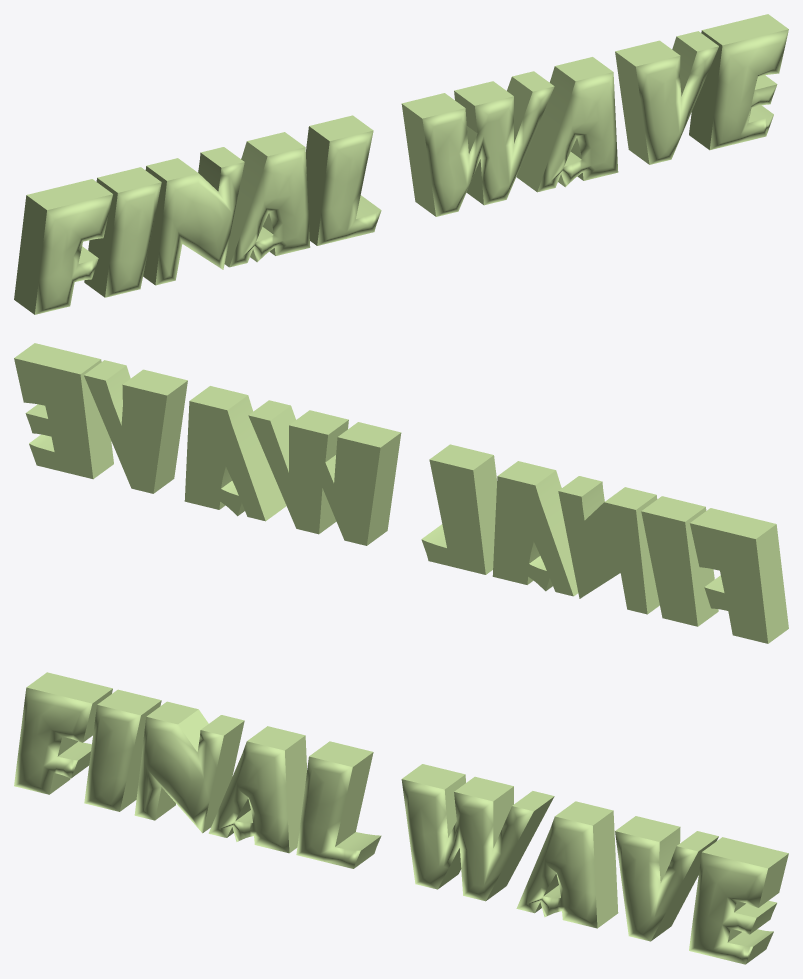
File: 3d_finalwave.dae
3 renders of one model, top to bottom at view 1: azimuth 30°, elevation 25°; view 2: azimuth 150°, elevation 25°; view 3: azimuth 330°, elevation 25°, orthographic.
Parts seen in each view (by area): view 1: FINAL_WAVE; view 2: FINAL_WAVE; view 3: FINAL_WAVE.
Part boxes in pixels (x1,y1,x2,y2): FINAL_WAVE: (14,14,788,314); FINAL_WAVE: (14,343,788,643); FINAL_WAVE: (14,672,788,964).
Size of the model in its own units: 209 by 27.5 by 13.29.
